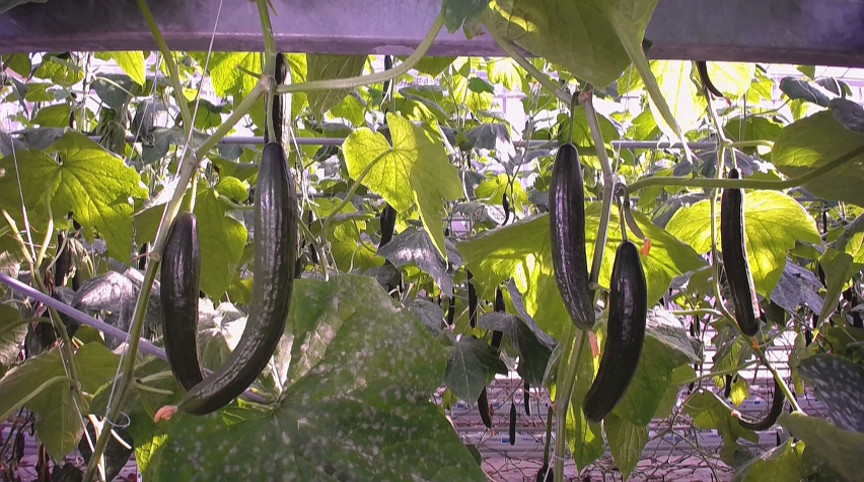cucumber: (178, 140, 297, 416), (583, 244, 648, 424), (162, 211, 208, 385), (553, 144, 594, 333), (718, 168, 762, 339), (477, 387, 493, 430), (467, 271, 478, 330)
